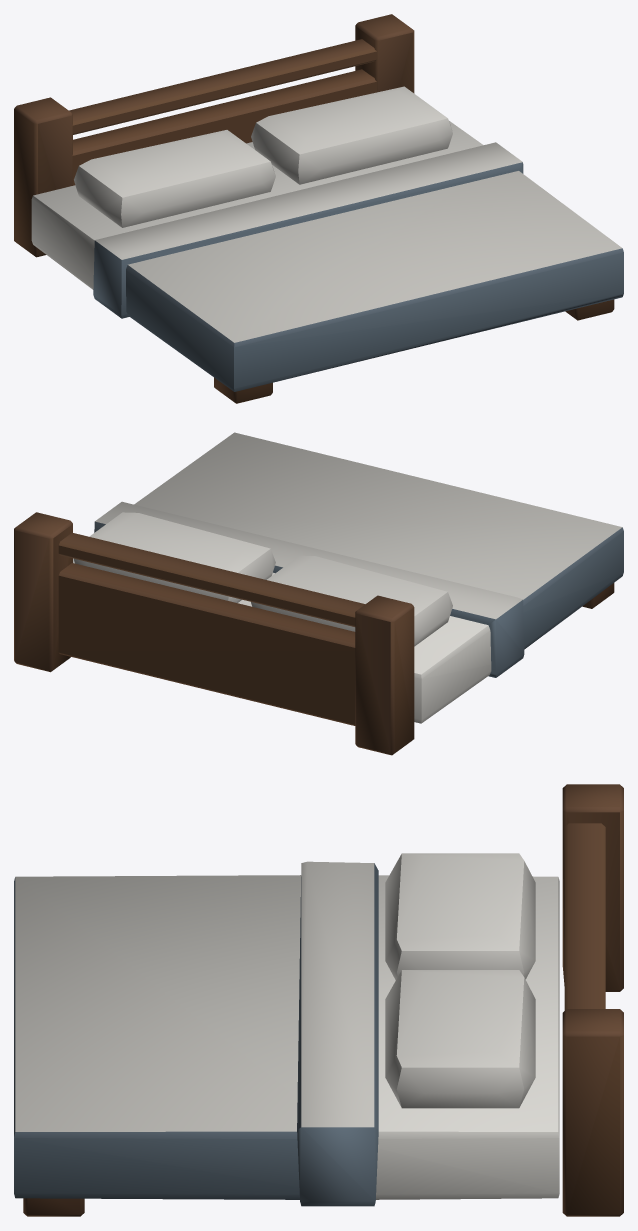
Rendered from bed.low.3966f11a.glb.
3 renders of one model, top to bottom at view 1: azimuth 30°, elevation 25°; view 2: azimuth 150°, elevation 25°; view 3: azimuth 270°, elevation 25°, orthographic. The views are drawn at different scales.
Visible parts, largest first — view 1: bed; view 2: bed; view 3: bed.
Part boxes in pixels (x1,y1,x2,y2): bed: [14, 14, 623, 403]; bed: [14, 432, 623, 755]; bed: [14, 784, 623, 1216].
Bounding box in the file's own units: 2.1 × 0.6838 × 2.04.
